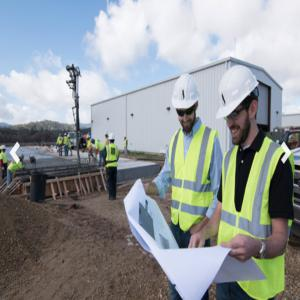blue: (92, 139, 96, 146)
white: (218, 64, 259, 145), (173, 74, 200, 131), (109, 134, 116, 145), (2, 145, 7, 154), (105, 132, 109, 139), (87, 135, 91, 141), (124, 136, 127, 142), (65, 133, 68, 138), (68, 136, 70, 140), (60, 134, 62, 138)
